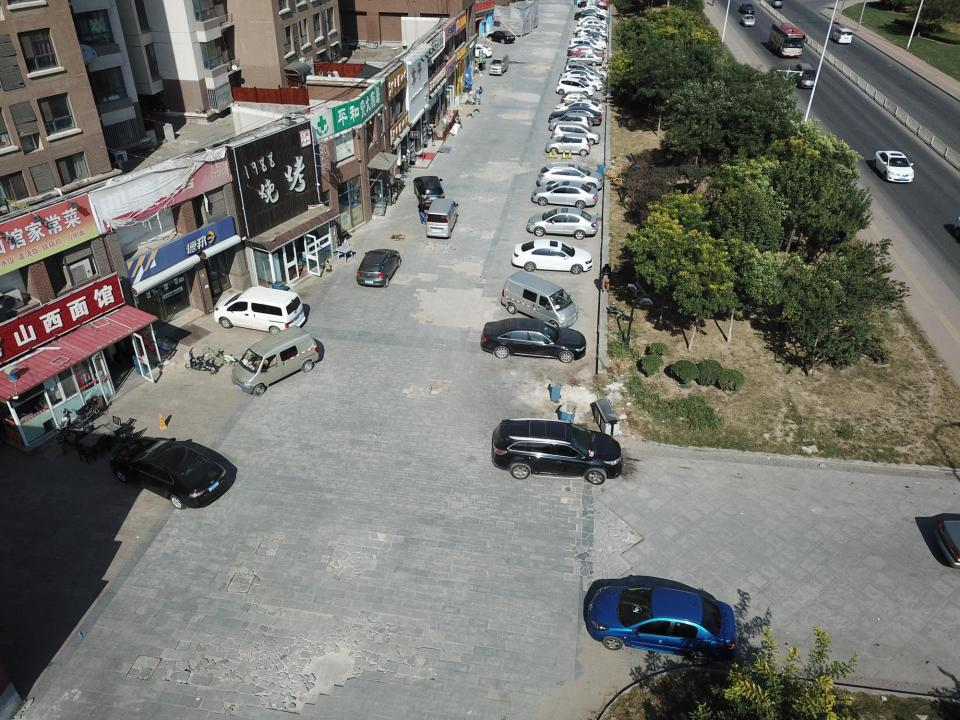bus: (768, 22, 808, 57)
car: (586, 582, 738, 663), (491, 418, 623, 484), (110, 437, 229, 509), (480, 317, 587, 363), (511, 240, 593, 274), (526, 208, 599, 239), (537, 162, 603, 191), (531, 181, 598, 209), (356, 248, 401, 288), (873, 151, 914, 182), (551, 122, 600, 146), (548, 106, 602, 127), (545, 134, 591, 156), (413, 176, 445, 206), (553, 99, 603, 118), (558, 73, 603, 92), (549, 113, 591, 132), (560, 91, 600, 109), (560, 68, 604, 84), (556, 78, 594, 96), (566, 52, 603, 66), (564, 62, 597, 77), (567, 44, 605, 57), (568, 38, 603, 52), (573, 36, 607, 50), (572, 48, 605, 61), (573, 32, 608, 44), (486, 30, 516, 44), (462, 44, 492, 58), (577, 28, 607, 40), (574, 10, 605, 21), (580, 18, 608, 30), (577, 16, 607, 27), (576, 26, 607, 36), (573, 24, 604, 34), (580, 8, 608, 18), (582, 1, 608, 11), (580, 5, 608, 14), (738, 3, 756, 14), (740, 14, 756, 26), (578, 0, 604, 7), (588, 0, 608, 9), (768, 0, 784, 8)
van: (231, 325, 320, 396), (213, 286, 305, 336), (501, 271, 579, 329), (426, 198, 458, 238), (792, 63, 817, 88), (489, 53, 508, 76), (832, 28, 852, 44)
